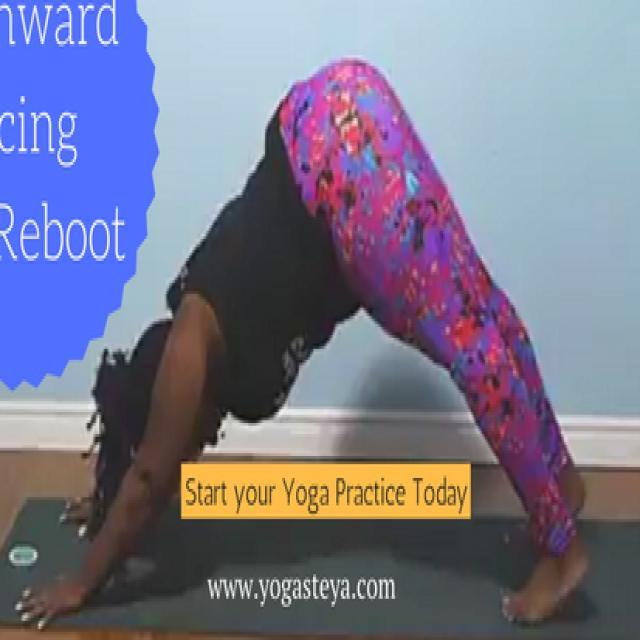Downward-Facing_Dog: (14, 53, 598, 627)
